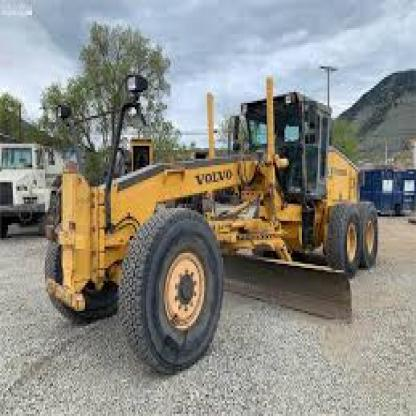bull_dozer/loader/grader: (44, 68, 402, 368)
